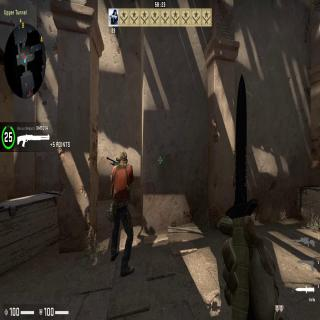T-Body: (106, 147, 138, 277)
T-Head: (120, 150, 128, 165)
